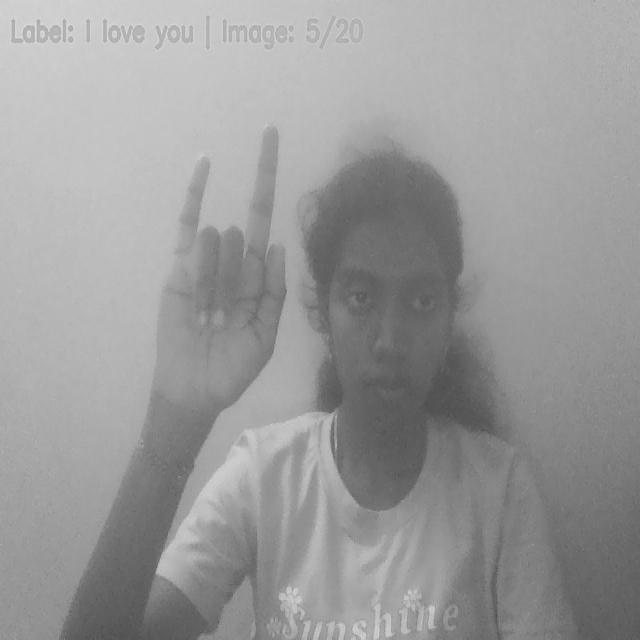I love you: (150, 122, 287, 417)
